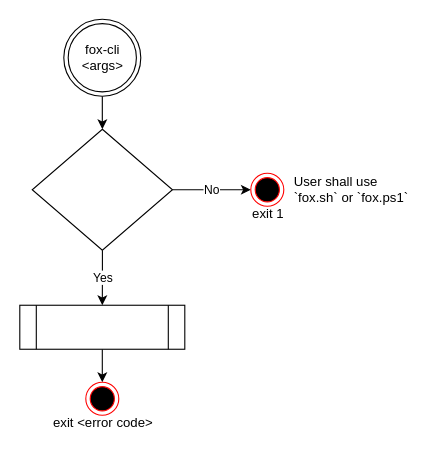
Image size: 431x450. Some labels were removed from this diagram. The shapes that lost their labels are listed below. From the top down, each one's centre as x and y in pixels, then its label:
At point (101, 189): "PROJECT_ROOT in package?".
At point (102, 326): "Run 'cli' main".
